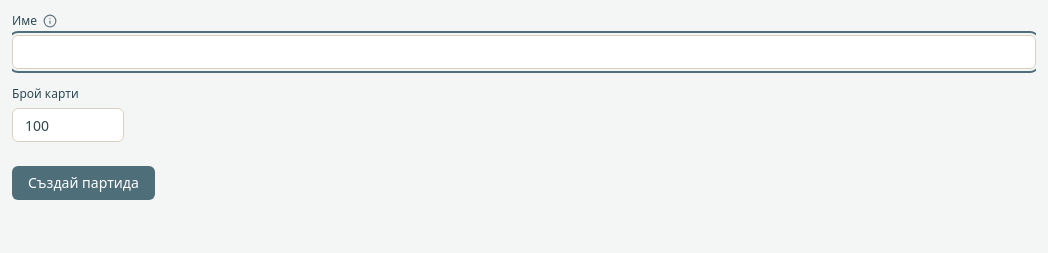
Scenario: NewBatchForm › sends a numeric quantity and shows the action message as an alert
The image size is (1048, 253).
Type "Първа" into the field labelled "Име" at point(524, 52), box top-left (12, 35), bottom-right (1036, 69)
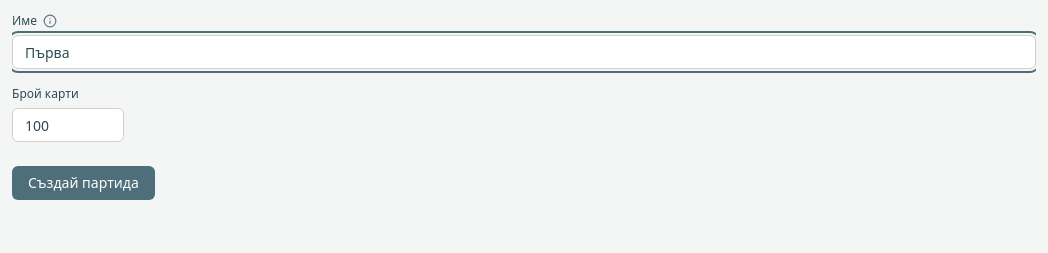
Replace the text in the number field labelled "Брой карти" with "20" at point(68, 125), box top-left (12, 108), bottom-right (124, 142)
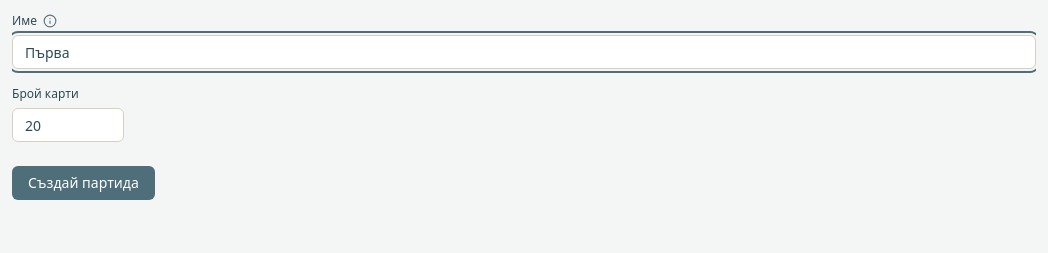
Submit the form from the button "Създай партида", box top-left (12, 166), bottom-right (155, 200)
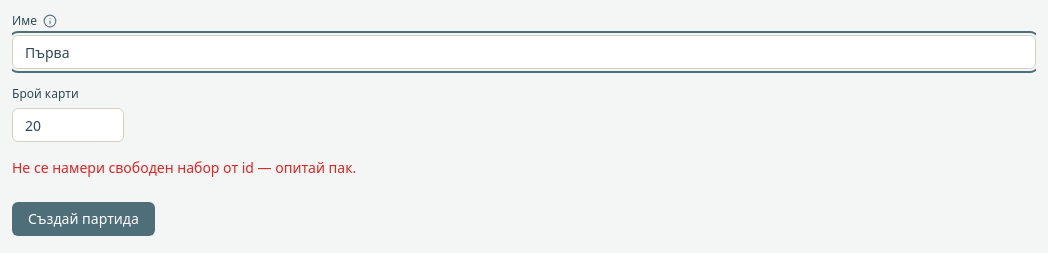
Result: the message reads "Не се намери свободен набор от id — опитай пак." at top-left (12, 158), bottom-right (356, 177)
